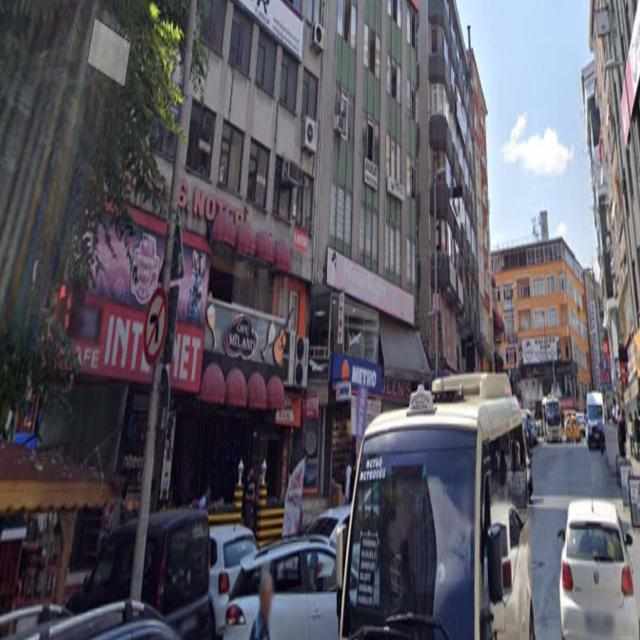soladonulmez: (142, 289, 168, 363)
